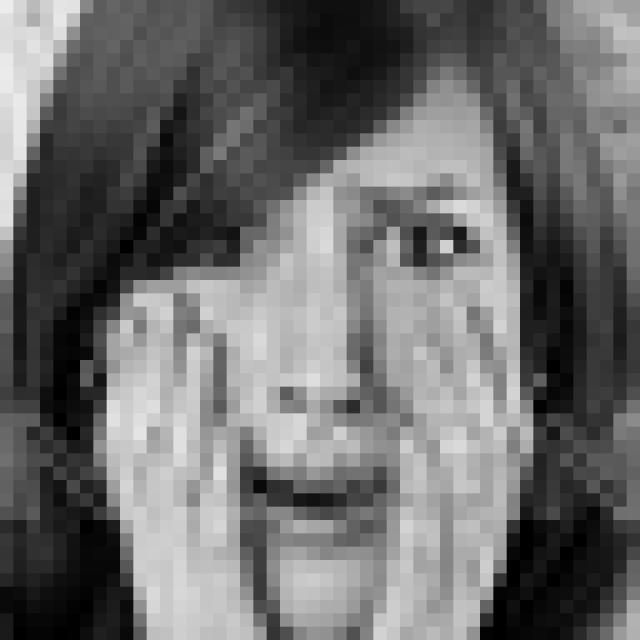fear: (171, 167, 495, 564)
